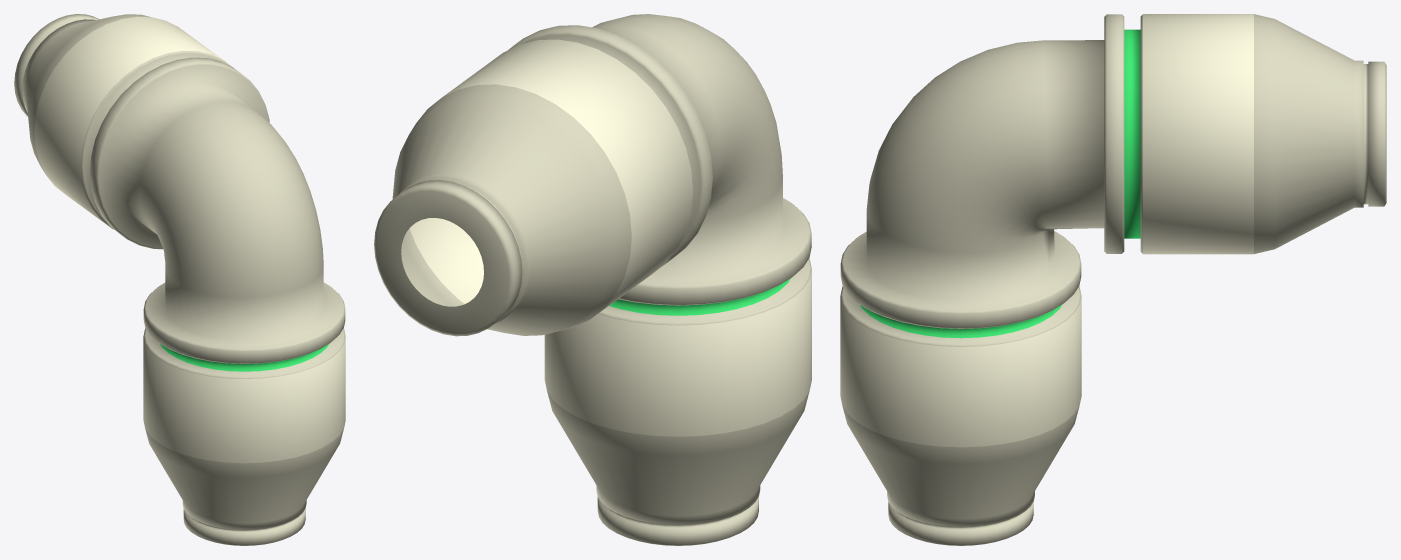
The model's file is push-fit_90_elbow.glb.
The picture shows the model from 3 angles, left to right: view 1: azimuth 30°, elevation 25°; view 2: azimuth 150°, elevation 25°; view 3: azimuth 270°, elevation 25°; orthographic projection. The views are drawn at different scales.
Parts seen in each view (by area): view 1: Low; view 2: Low; view 3: Low.
Part boxes in pixels (box(x1,y1,x2,y2)): Low: box(14, 14, 345, 545); Low: box(374, 14, 811, 545); Low: box(840, 14, 1386, 545).
Bounding box in the file's own units: 0.0272 × 0.0612 × 0.0616.
